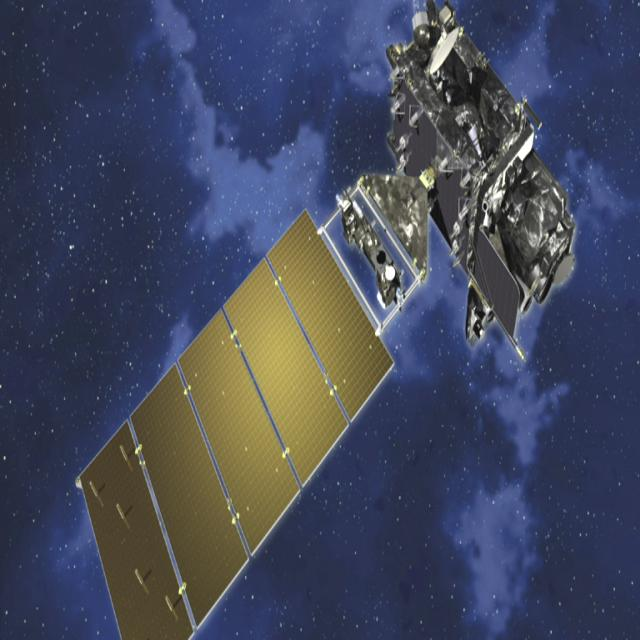satellite: (63, 0, 573, 640)
